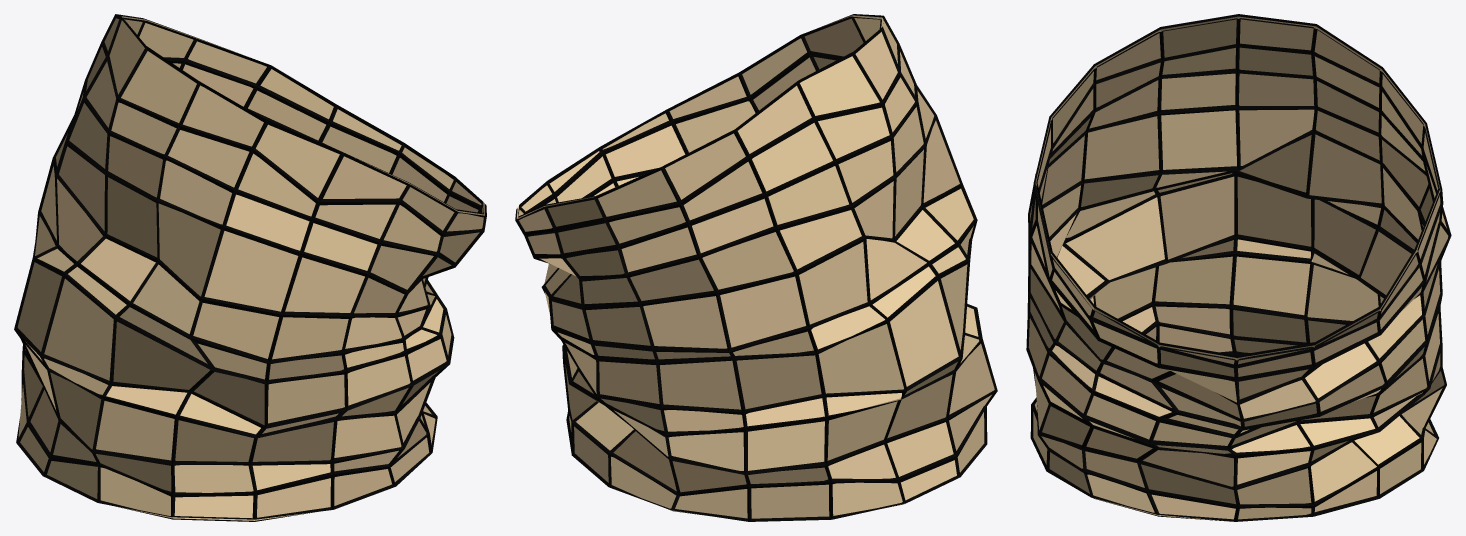
Rendered from 1_3-30-revised.fbx.
3 renders of one model, left to right at view 1: azimuth 30°, elevation 25°; view 2: azimuth 150°, elevation 25°; view 3: azimuth 270°, elevation 25°, orthographic. The views are drawn at different scales.
Visible parts, largest first — view 1: Cylinder; view 2: Cylinder; view 3: Cylinder.
Boxes of the visible parts, bbox=[...] form: Cylinder: bbox=[14, 14, 486, 521]; Cylinder: bbox=[515, 14, 997, 521]; Cylinder: bbox=[1026, 14, 1451, 521].
Size of the model in its own units: 2.29 by 2.13 by 2.1.
